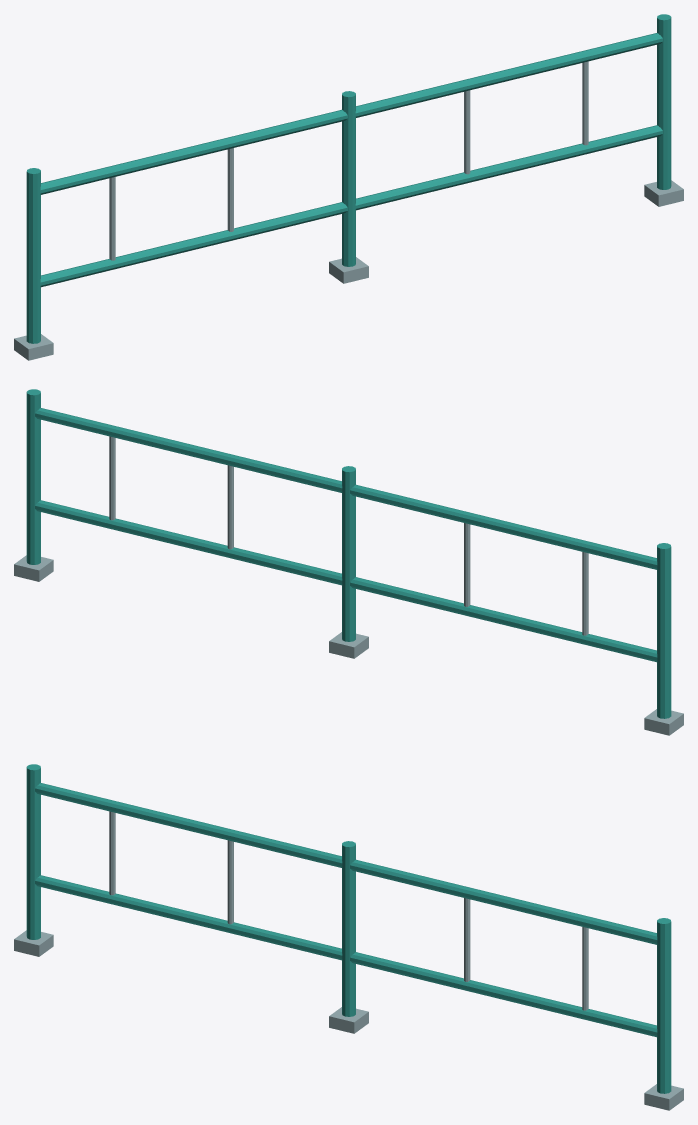
Rendered from railing.glb.
3 views of the same model, one above another, from view 1: azimuth 30°, elevation 25°; view 2: azimuth 150°, elevation 25°; view 3: azimuth 330°, elevation 25° (orthographic).
Parts seen in each view (by area): view 1: railing.Root_Teal, railing.Root_Steel; view 2: railing.Root_Teal, railing.Root_Steel; view 3: railing.Root_Teal, railing.Root_Steel.
Boxes of the visible parts, x1=… form: railing.Root_Teal: x1=26, y1=14, x2=671, y2=343; railing.Root_Steel: x1=14, y1=61, x2=683, y2=360; railing.Root_Teal: x1=26, y1=389, x2=671, y2=718; railing.Root_Steel: x1=14, y1=436, x2=683, y2=735; railing.Root_Teal: x1=26, y1=764, x2=671, y2=1093; railing.Root_Steel: x1=14, y1=811, x2=683, y2=1110.
Bounding box in the file's own units: 4.16 × 1.1 × 0.16.
